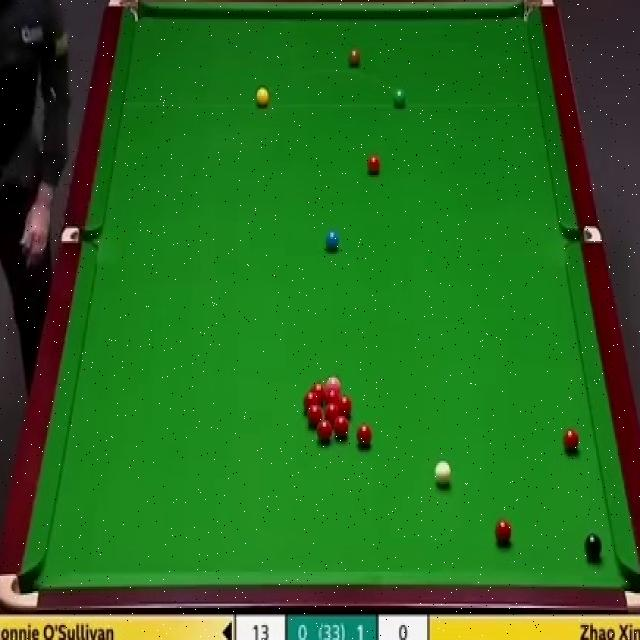black-ball: (584, 531, 602, 560)
blue-ball: (324, 230, 340, 253)
brown-ball: (349, 49, 362, 65)
green-ball: (392, 88, 407, 107)
pink-ball: (326, 377, 342, 388)
red-ball: (495, 519, 512, 544), (357, 424, 373, 447), (333, 415, 349, 438), (564, 428, 579, 451), (339, 395, 354, 418), (307, 405, 321, 428), (317, 420, 331, 441), (368, 154, 380, 176), (311, 382, 326, 399), (302, 392, 318, 406), (325, 405, 340, 417), (327, 387, 339, 402)
white-ball: (435, 460, 452, 485)
yellow-ball: (255, 86, 269, 108)
